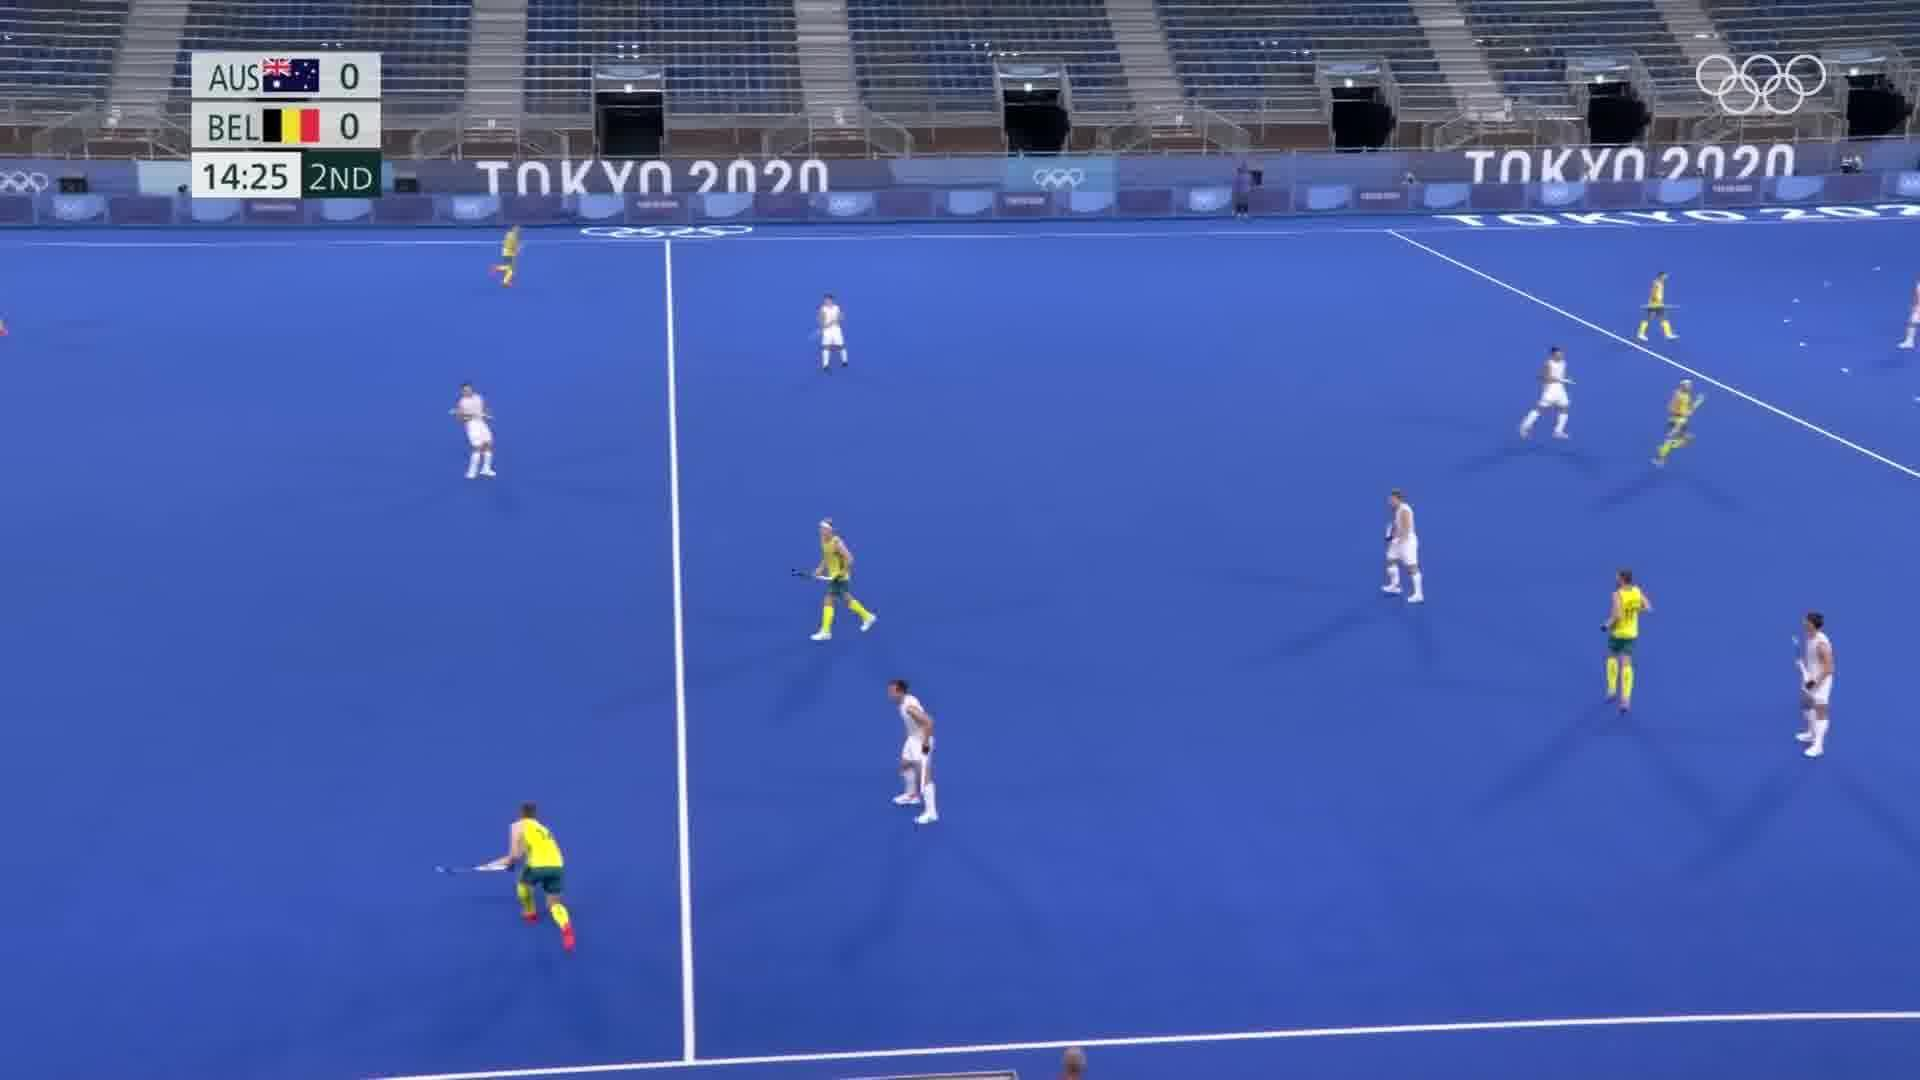ball: (427, 860, 449, 876)
